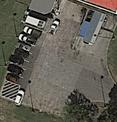parkingspot: (4, 24, 43, 87), (14, 88, 71, 120), (55, 0, 89, 25)
